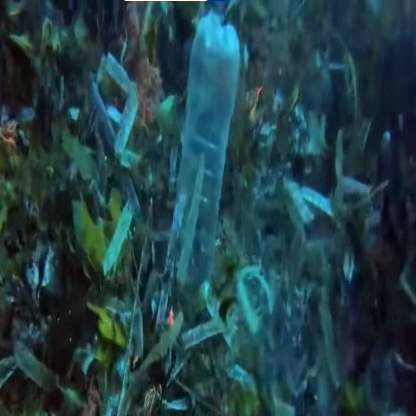pbottle: (176, 11, 239, 317)
